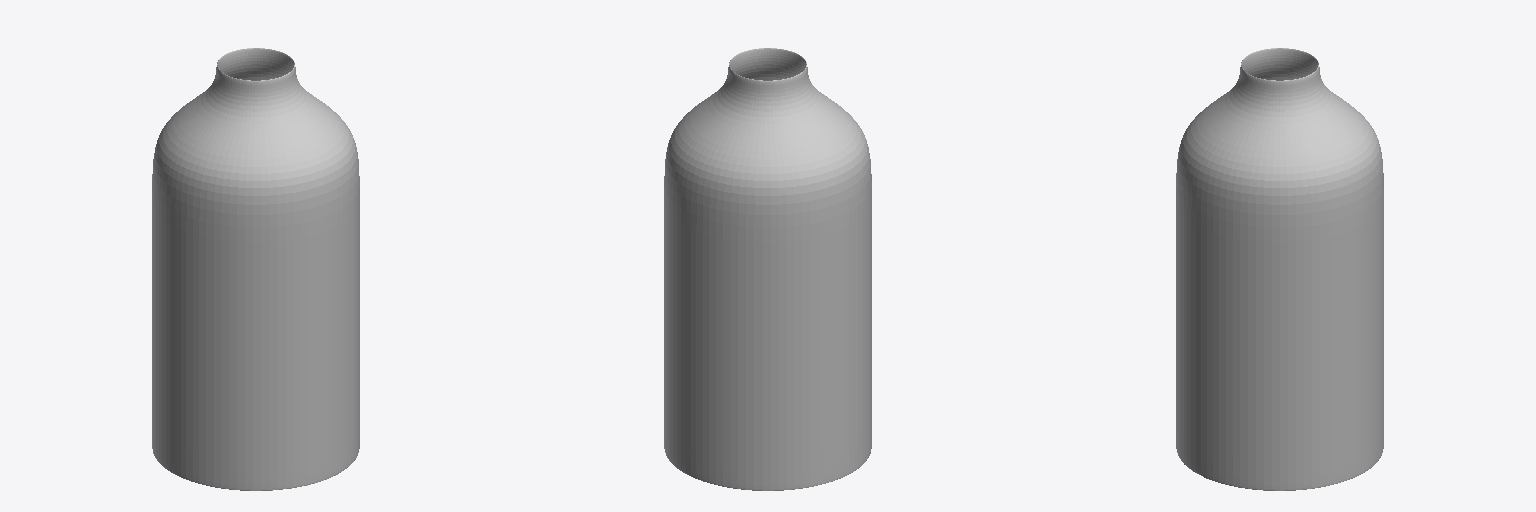
Rendered from Amild Garrafa.obj.
3 views of the same model, side by side, from view 1: azimuth 30°, elevation 25°; view 2: azimuth 150°, elevation 25°; view 3: azimuth 270°, elevation 25° (orthographic).
Parts seen in each view (by area): view 1: Circle; view 2: Circle; view 3: Circle.
Part boxes in pixels (x1,y1,x2,y2): Circle: (152,48,359,490); Circle: (664,48,871,490); Circle: (1176,48,1383,490).
Size of the model in its own units: 0.3552 by 0.7229 by 0.3554.